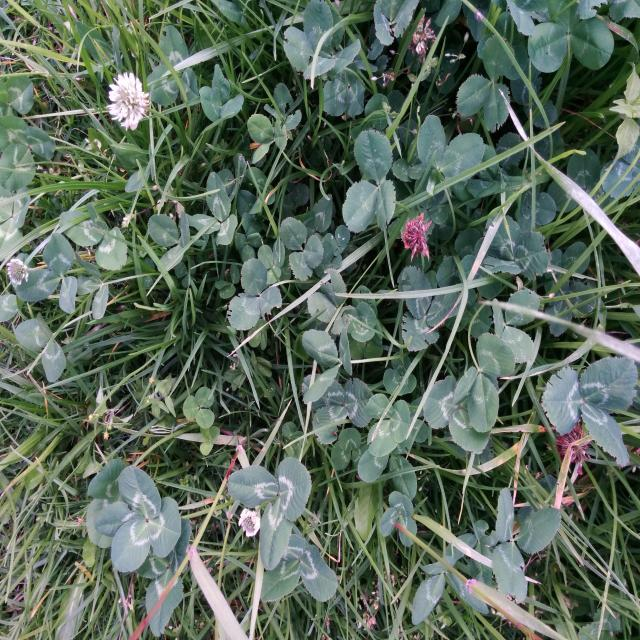Four Leaf Clover: (97, 465, 181, 572)
